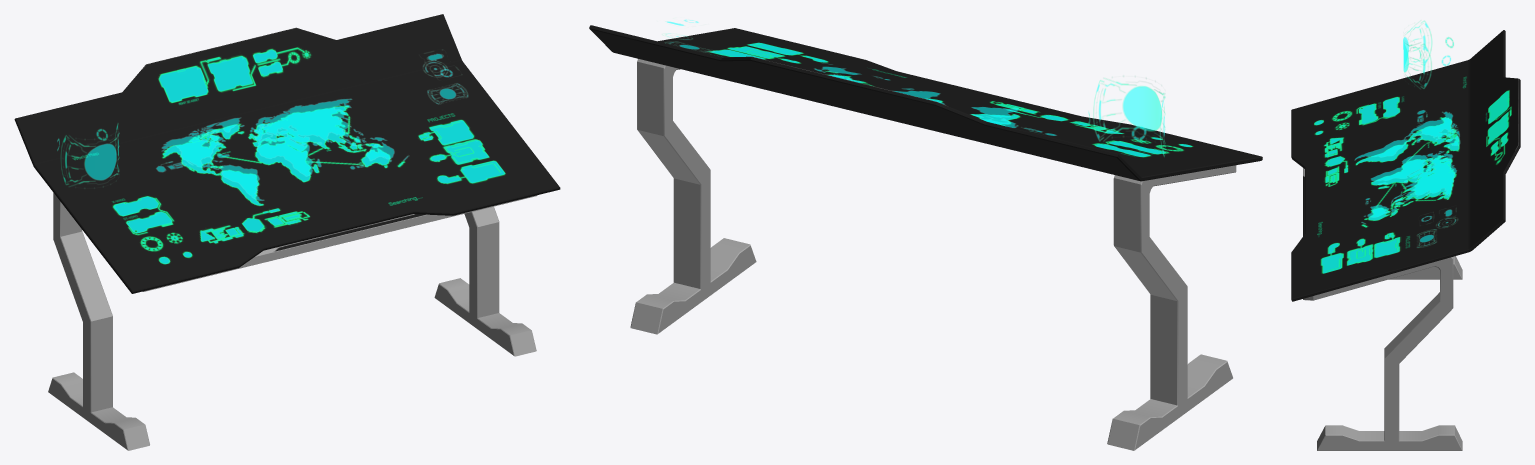
File: sci-fi_table.glb
3 renders of one model, left to right at view 1: azimuth 30°, elevation 25°; view 2: azimuth 150°, elevation 25°; view 3: azimuth 270°, elevation 25°, orthographic. The views are drawn at different scales.
Parts seen in each view (by area): view 1: pPlane4, pPlane3, pPlane8, pCylinder1; view 2: pPlane4, pPlane3, pCylinder1, pPlane8; view 3: pPlane4, pPlane3, pPlane8, pCylinder1.
Boxes of the visible parts, box(x1,y1,x2,y2) form: pPlane4: box(14, 14, 560, 293); pPlane3: box(48, 193, 537, 450); pPlane8: box(156, 98, 408, 200); pCylinder1: box(57, 123, 119, 186); pPlane4: box(589, 25, 1262, 181); pPlane3: box(630, 59, 1236, 450); pCylinder1: box(1088, 76, 1165, 156); pPlane8: box(814, 64, 1056, 135); pPlane4: box(1291, 30, 1520, 301); pPlane3: box(1303, 168, 1462, 450); pPlane8: box(1355, 110, 1460, 223); pCylinder1: box(1403, 20, 1453, 88).
Bounding box in the file's own units: 2.21 × 1.38 × 1.13.
1 material, 1 textured.
